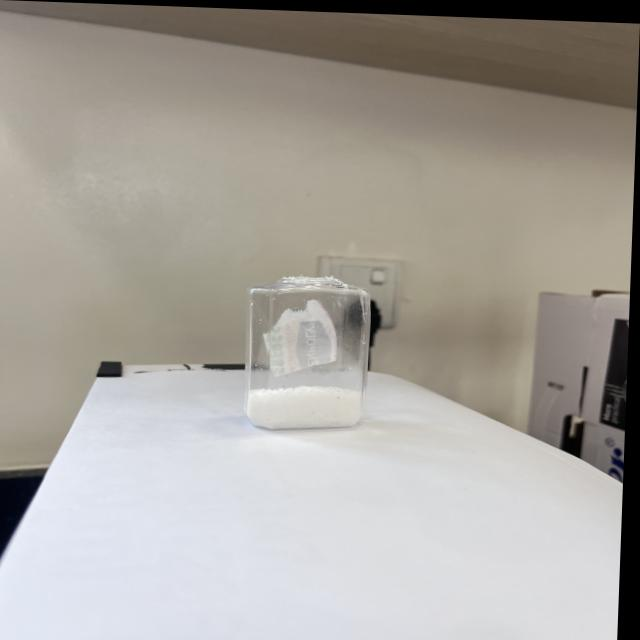salt: (246, 378, 368, 431)
